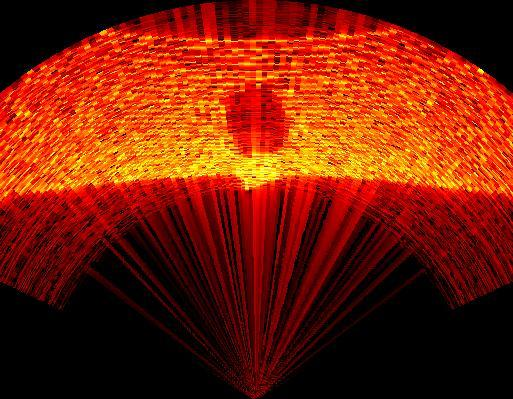box_crate: (219, 80, 293, 194)
